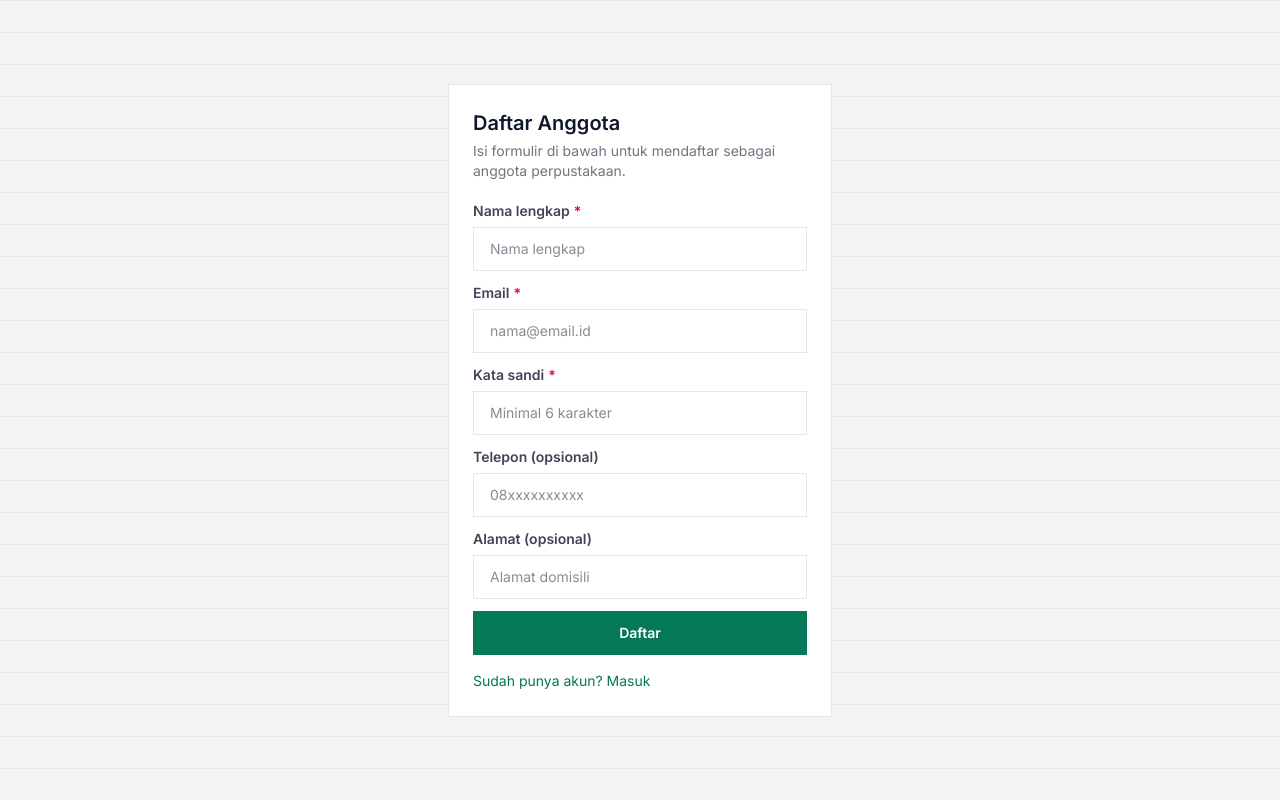
Scenario: public client pages › daftar: client validation then 201 success
Expected: the heading "Daftar Anggota" is shown, [473,110,620,134]
Submit the form labelled "Nama lengkap", box [473,200,807,654]
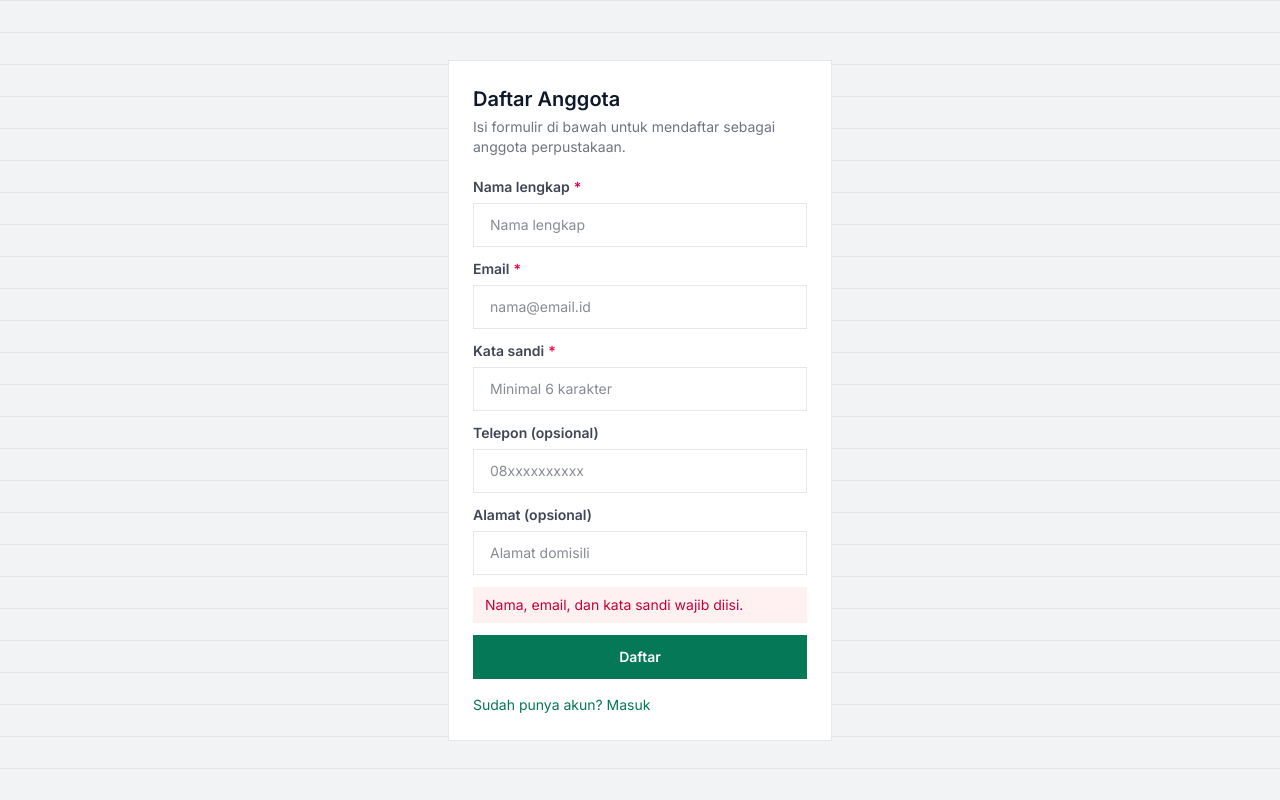
Expected: the text "Nama, email, dan kata sandi wajib diisi." is shown, [473,586,807,622]
Type "Budi Santoso" into the field labelled "Nama lengkap*". click: (640, 224)
box: [473,202,807,246]
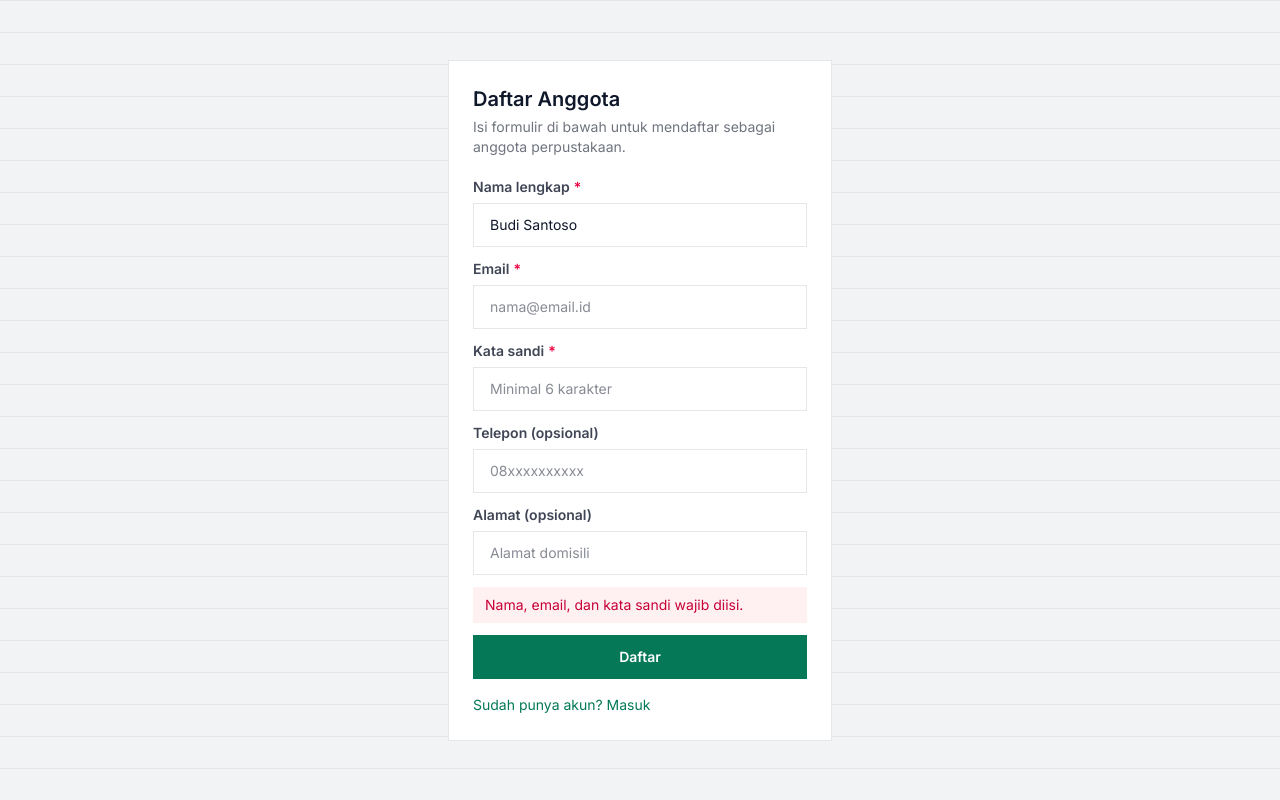
Type "budi@mail.id" into the field labelled "Email*". click: (640, 306)
box: [473,284,807,328]
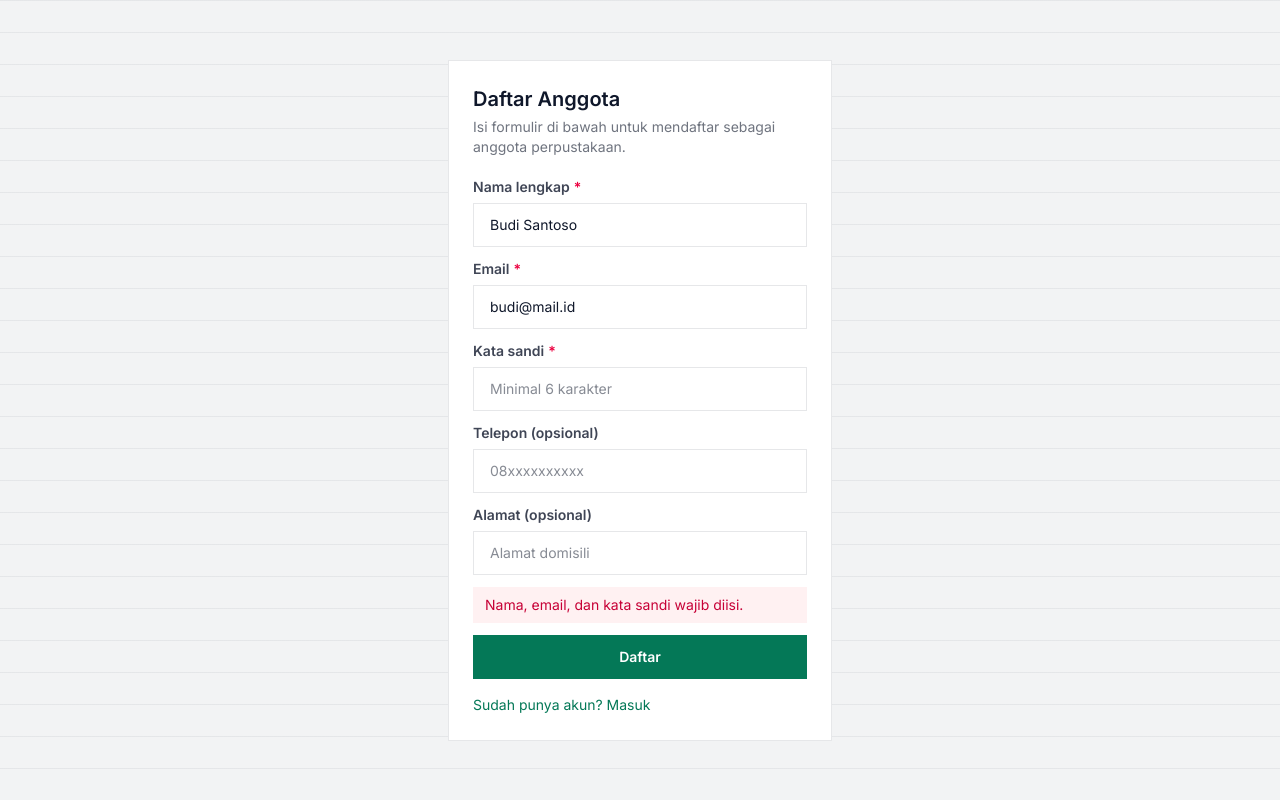
Type "rahasia1" into the password field labelled "Kata sandi*". click: (640, 388)
box: [473,366,807,410]
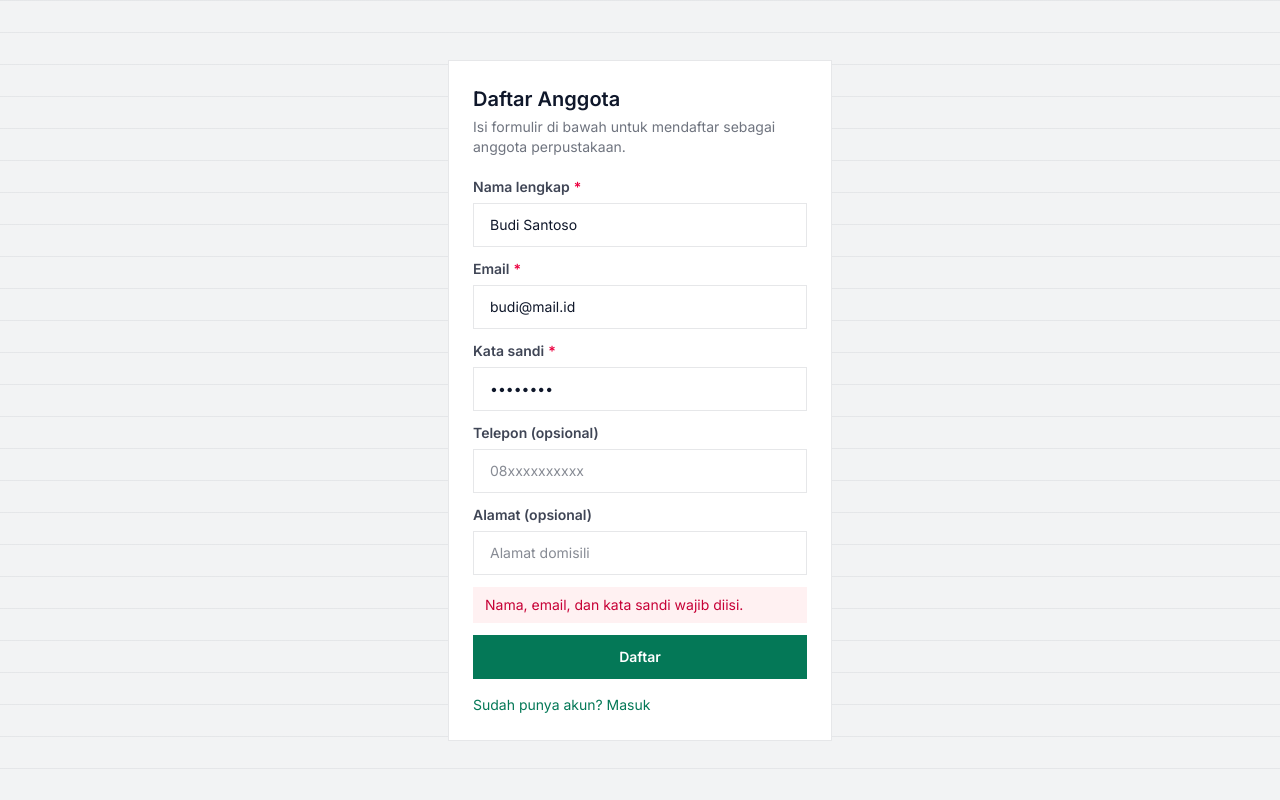
Submit the form labelled "Nama lengkap", box [473,176,807,678]
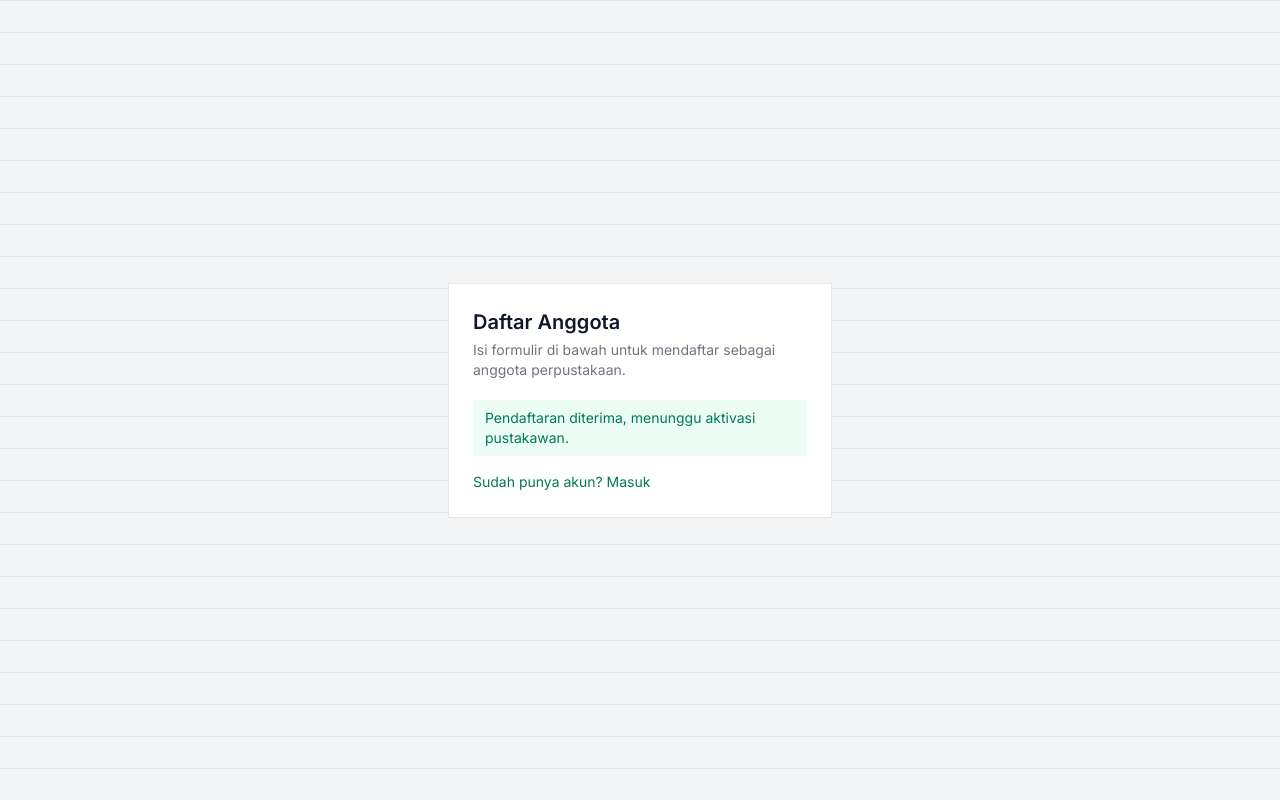
Expected: the text "Pendaftaran diterima, menunggu aktivasi pustakawan." is shown, [473,400,807,456]
